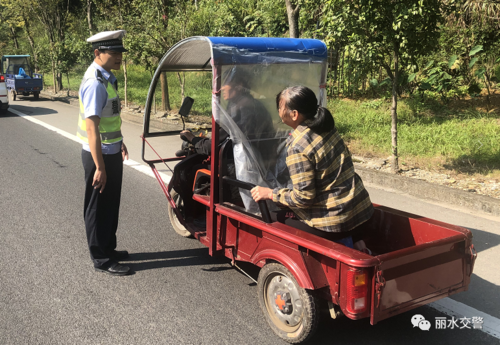driver: (178, 68, 264, 223)
overloading: (145, 23, 468, 338)
passenger: (264, 82, 369, 249)
